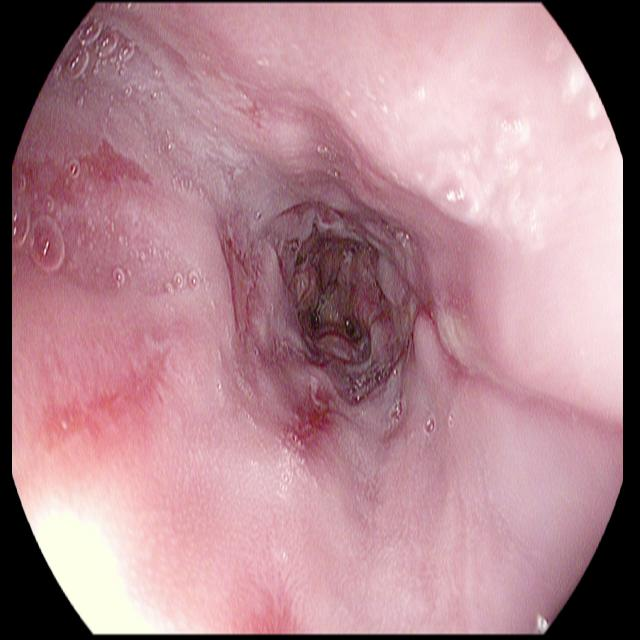esophagitis: (10, 101, 355, 472)
